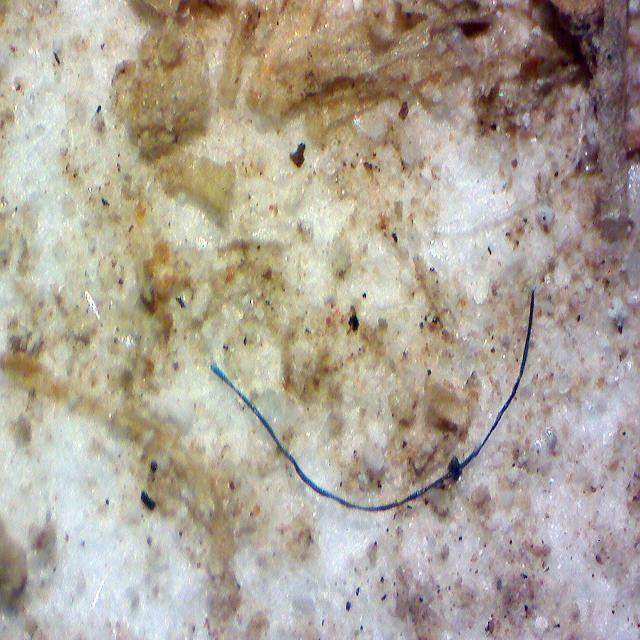microplastic: (209, 287, 538, 514)
